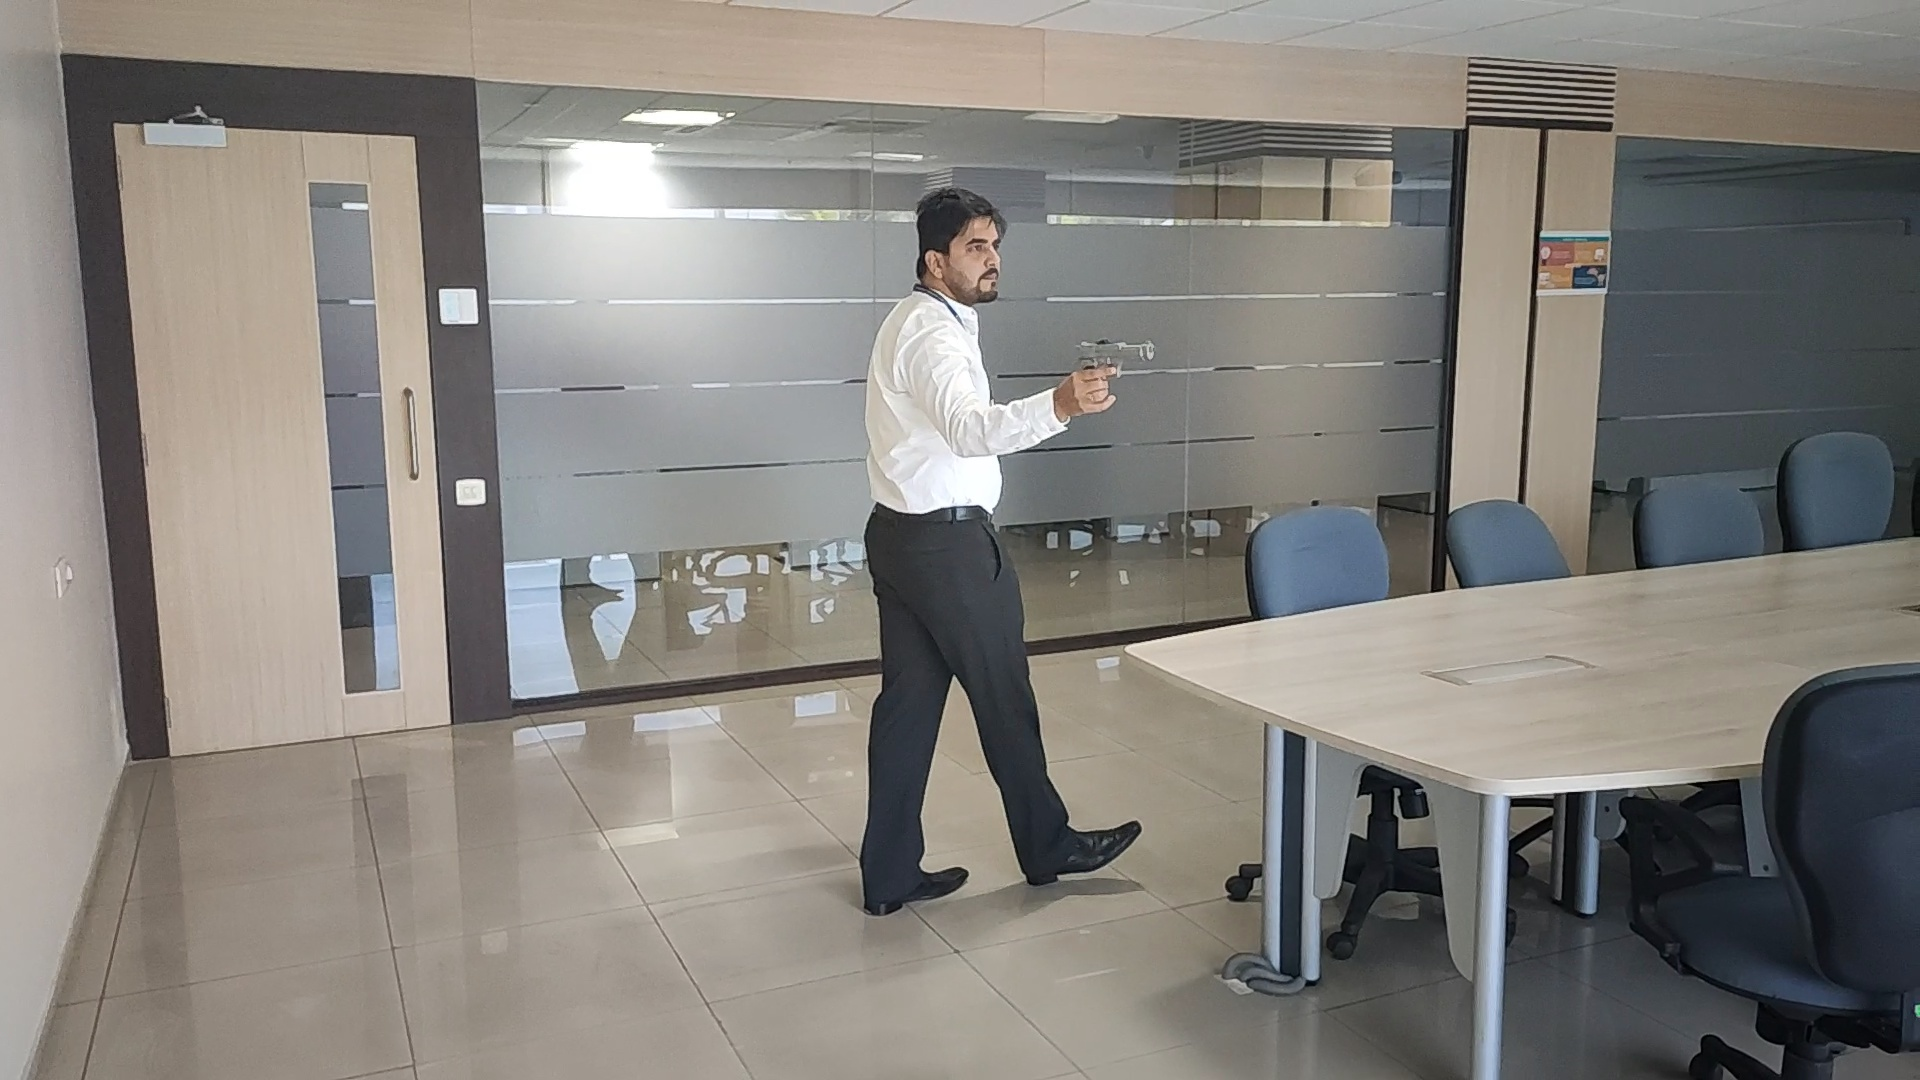gun: (1076, 334, 1156, 378)
